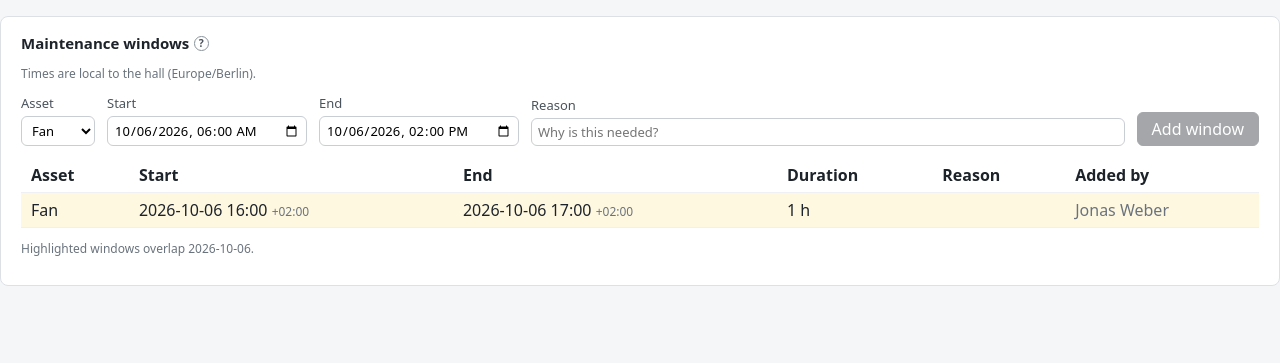
P15: response lost after saving, the list proves it was saved
In the field named "reason": coordinates (828, 132) [531,118,1125,146], type "Belt change"
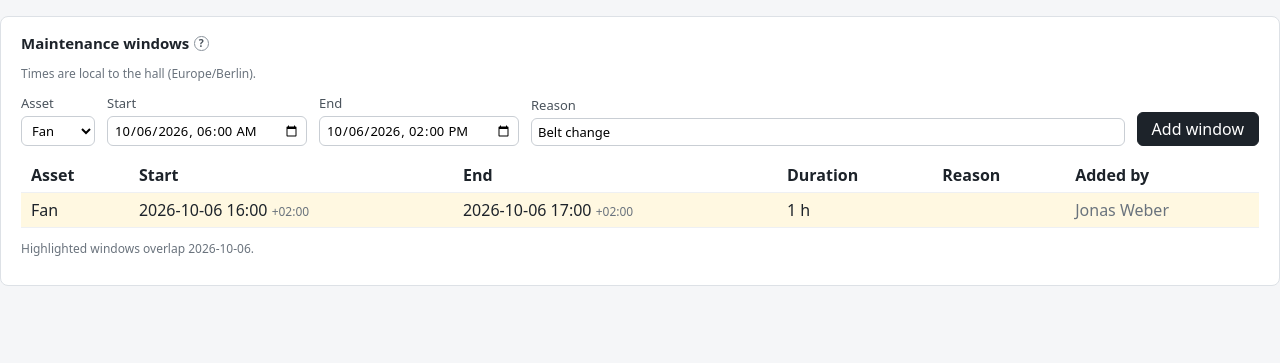
Submit the form, box [21,94,1259,146]
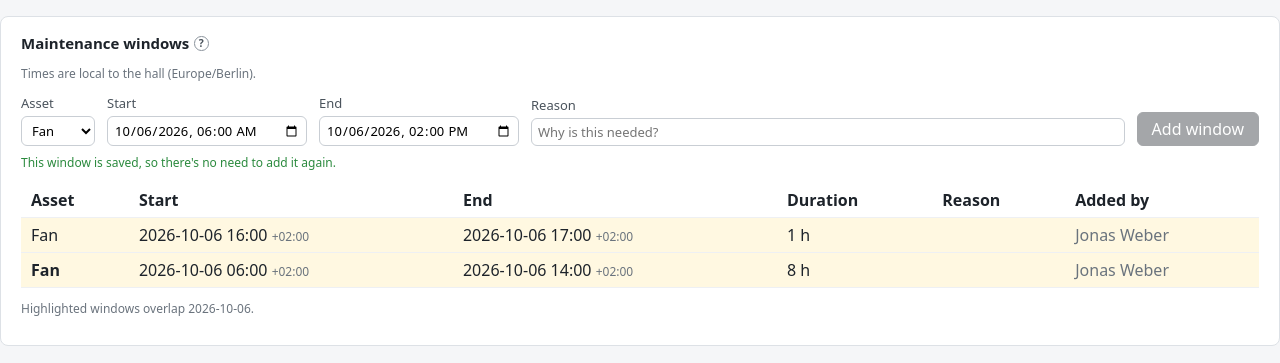
Expected: the message "This window is saved, so there's no need to add it again." is shown, [21,154,336,171]
